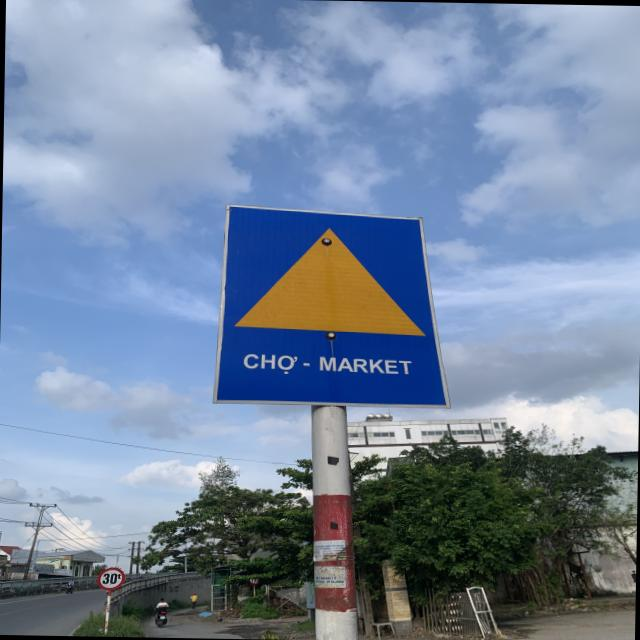Cho_Quay_Xe: (215, 202, 454, 408)
